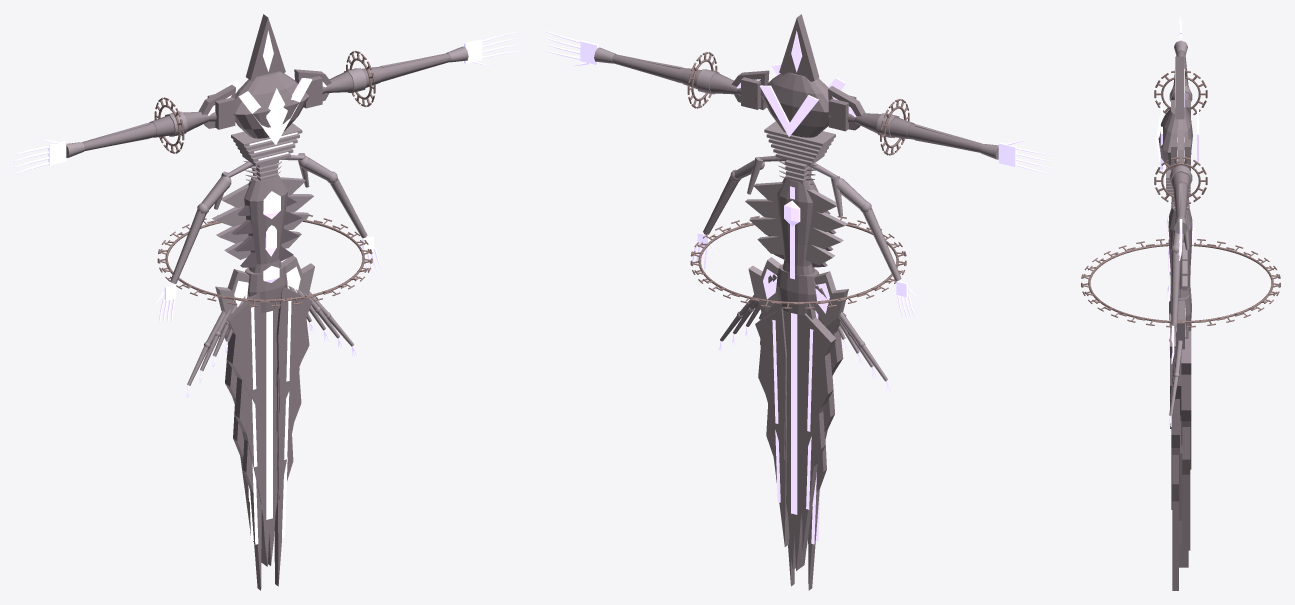
The model's file is irontomb.glb.
The picture shows the model from 3 angles, left to right: view 1: azimuth 30°, elevation 25°; view 2: azimuth 150°, elevation 25°; view 3: azimuth 270°, elevation 25°; orthographic projection. The views are drawn at different scales.
Visible parts, largest first — view 1: irontomb; view 2: irontomb; view 3: irontomb.
Boxes of the visible parts, <box> form: irontomb: <box>14,14,517,590</box>; irontomb: <box>546,14,1052,590</box>; irontomb: <box>1081,14,1280,590</box>.
Size of the model in its own units: 242 by 262 by 89.5.
